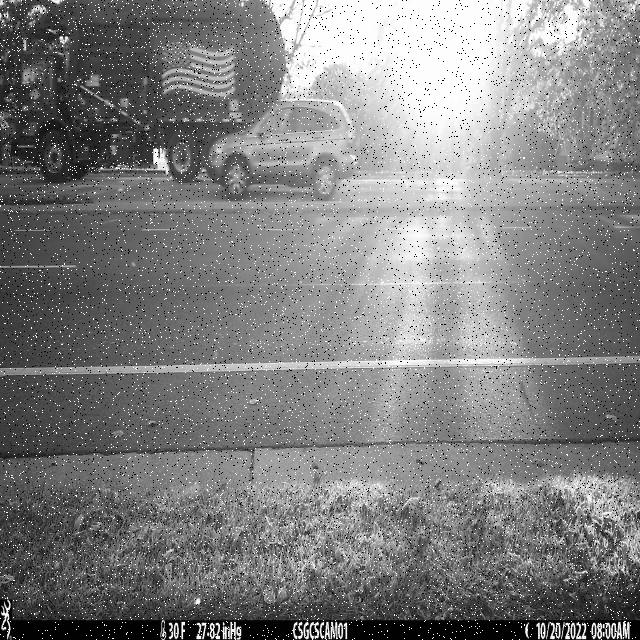Garbage Truck: (0, 0, 286, 182)
